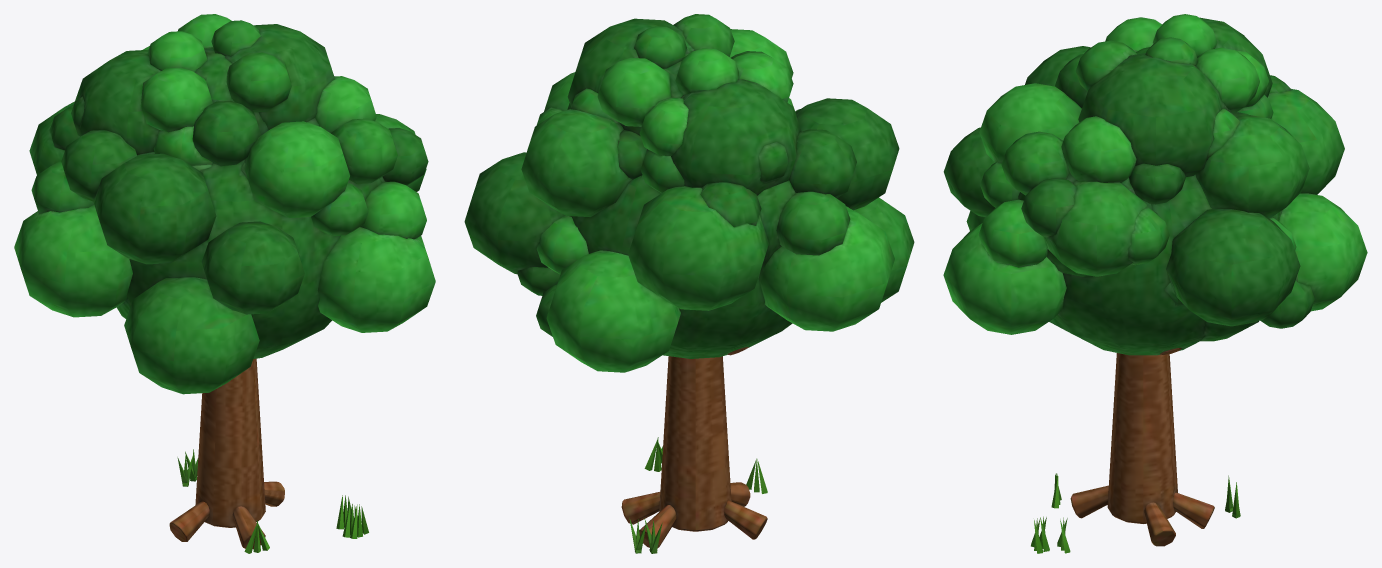
File: grapefruit_tree.glb
3 renders of one model, left to right at view 1: azimuth 30°, elevation 25°; view 2: azimuth 150°, elevation 25°; view 3: azimuth 270°, elevation 25°, orthographic. The views are drawn at different scales.
Visible parts, largest first — view 1: crown, grapefruit_tree; view 2: crown, grapefruit_tree; view 3: crown, grapefruit_tree.
Part boxes in pixels (<box>): crown: <box>14,14,435,394</box>; grapefruit_tree: <box>169,358,368,553</box>; crown: <box>464,14,914,372</box>; grapefruit_tree: <box>621,347,767,553</box>; crown: <box>943,14,1367,355</box>; grapefruit_tree: <box>1031,348,1240,553</box>.
Size of the model in its own units: 1.08 by 1.36 by 1.06.
1 material, 1 textured.
